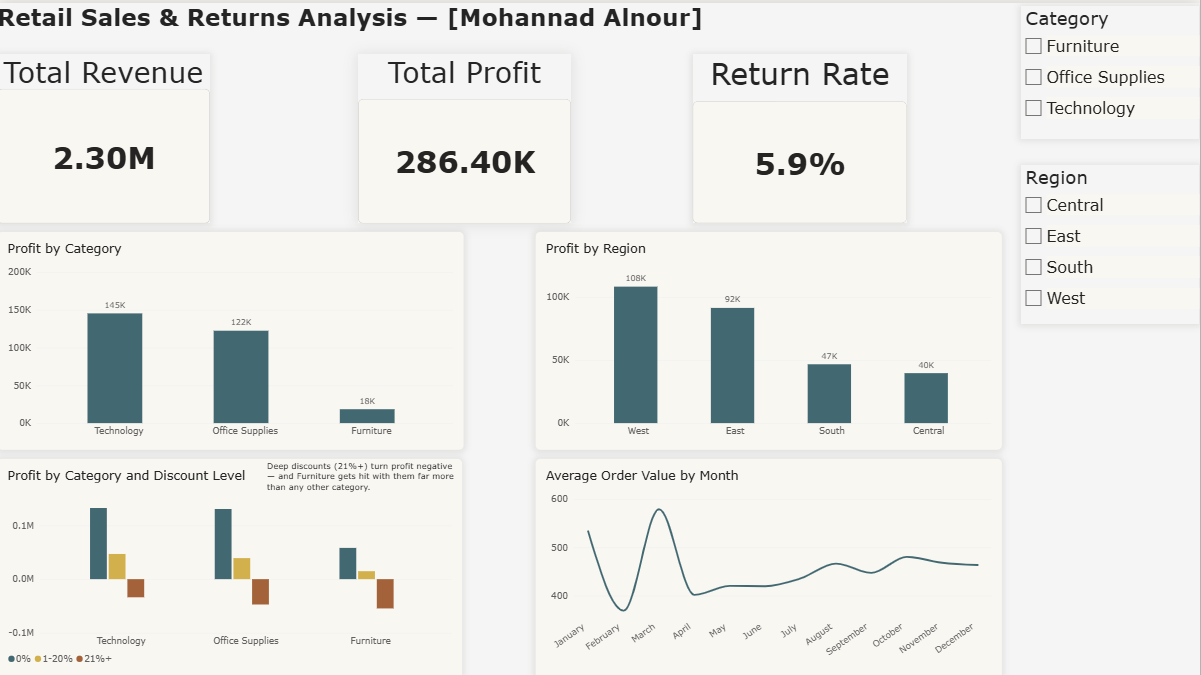

This screenshot's page, from the dashboard's own definition file:
{"tool":"powerbi","page":{"name":"Overview","canvas":[1920,1080],"ordinal":0},"visuals":[{"type":"cardVisual","title":"Total Revenue","fields":{"Data":["Sum(public orders.sales)"]},"box":[0,81.5,340,270],"z":0},{"type":"cardVisual","title":"Total Profit","fields":{"Data":["Sum(public orders.profit)"]},"box":[576.5,82,340,270],"z":1000},{"type":"cardVisual","title":"Return Rate","fields":{"Data":["public orders.Return Rate"]},"box":[1110.7,82,342.5,270],"z":2000},{"type":"clusteredColumnChart","title":"Profit by Category","fields":{"Category":["public orders.category"],"Y":["Sum(public orders.profit)"]},"box":[0,364.9,745.8,349.1],"z":3000},{"type":"clusteredColumnChart","title":"Profit by Region","fields":{"Category":["public orders.region"],"Y":["Sum(public orders.profit)"]},"box":[859.5,364.9,745.8,349.1],"z":4000},{"type":"slicer","fields":{"Values":["public orders.category"]},"box":[1634.3,5.3,285.6,211.6],"z":5000},{"type":"slicer","fields":{"Values":["public orders.region"]},"box":[1634.3,259.2,285.6,253.9],"z":6000},{"type":"textbox","box":[0,0,1242.9,74],"z":7000},{"type":"clusteredColumnChart","title":"Profit by Category and Discount Level","fields":{"Category":["public orders.category"],"Series":["public orders.discount_range"],"Y":["Sum(public orders.profit)"]},"box":[0,727.2,743.1,351.7],"z":8000},{"type":"lineChart","title":"Average Order Value by Month","fields":{"Category":["public orders.order_date.Variation.Date Hierarchy.Year","public orders.order_date.Variation.Date Hierarchy.Quarter","public orders.order_date.Variation.Date Hierarchy.Month","public orders.order_date.Variation.Date Hierarchy.Day"],"Y":["public orders.Avg Order Value"]},"box":[860.7,728.3,745.8,351.7],"z":9000},{"type":"textbox","box":[431.1,729.9,312.1,60.8],"z":10000}]}

Visuals, with their boxes in screenshot pixels (x1, y1, x2, y2), scaled from the page's 1920x1080 canvas onto the 1201x675 screenshot:
"Total Revenue" cardVisual: 0, 51, 213, 220
"Total Profit" cardVisual: 361, 51, 573, 220
"Return Rate" cardVisual: 695, 51, 909, 220
"Profit by Category" clusteredColumnChart: 0, 228, 467, 446
"Profit by Region" clusteredColumnChart: 538, 228, 1004, 446
slicer - public orders.category: 1022, 3, 1200, 136
slicer - public orders.region: 1022, 162, 1200, 321
textbox: 0, 0, 777, 46
"Profit by Category and Discount Level" clusteredColumnChart: 0, 454, 465, 674
"Average Order Value by Month" lineChart: 538, 455, 1005, 674
textbox: 270, 456, 465, 494
